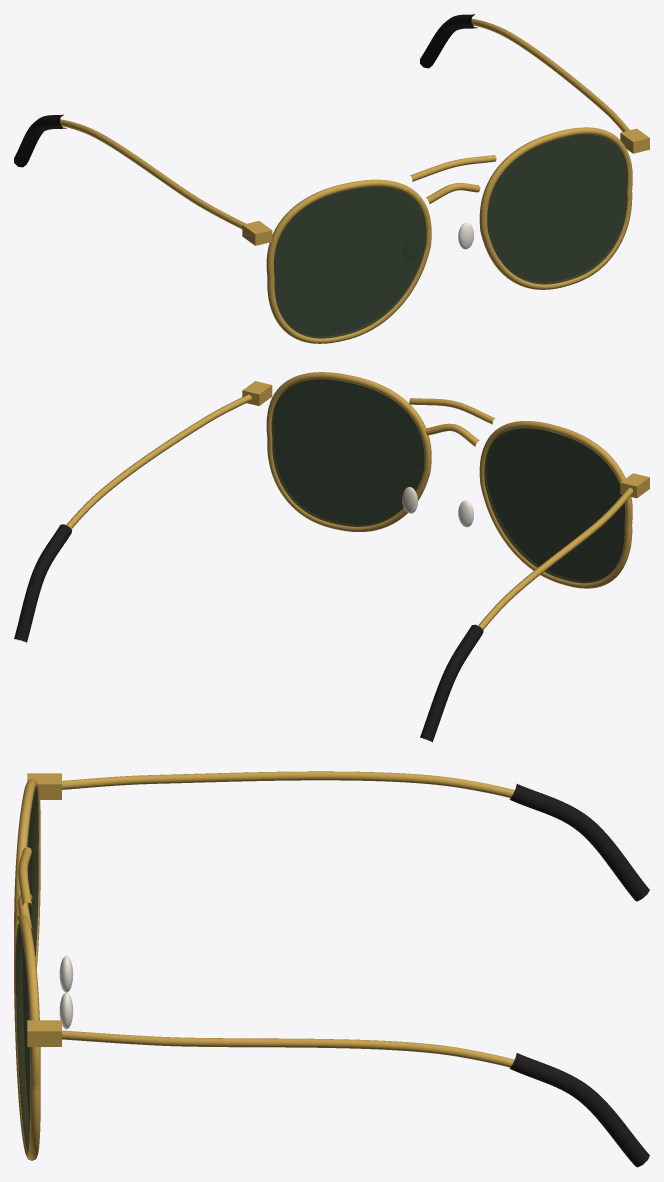
Rendered from gafas-aviador.glb.
3 renders of one model, top to bottom at view 1: azimuth 30°, elevation 25°; view 2: azimuth 150°, elevation 25°; view 3: azimuth 270°, elevation 25°, orthographic. The views are drawn at different scales.
Visible parts, largest first — view 1: Lente (×2), Aro (×2), Varilla (×2), Terminal (×2), Bisagra (×2), Barra superior; view 2: Lente (×2), Aro (×2), Terminal (×2), Varilla (×2), Barra superior, Bisagra; view 3: Varilla (×2), Aro (×2), Terminal (×2), Lente (×2), Bisagra (×2), Barra superior.
Boxes of the visible parts, x1,y1,x2,y2 form: Lente (×2): (274, 134, 627, 338); Aro (×2): (266, 127, 632, 343); Varilla (×2): (60, 18, 629, 229); Terminal (×2): (14, 14, 477, 167); Bisagra (×2): (242, 128, 649, 245); Barra superior: (410, 155, 496, 181); Lente (×2): (271, 379, 625, 583); Aro (×2): (266, 372, 632, 588); Terminal (×2): (14, 524, 483, 742); Varilla (×2): (17, 394, 633, 740); Barra superior: (409, 398, 495, 424); Bisagra: (242, 381, 272, 405); Varilla (×2): (62, 771, 514, 1067); Aro (×2): (14, 778, 40, 1160); Terminal (×2): (509, 784, 649, 1167); Lente (×2): (16, 787, 38, 1151); Bisagra (×2): (27, 773, 61, 1046); Barra superior: (18, 847, 31, 905).
Size of the model in its own units: 0.1515 by 0.0534 by 0.1468.
